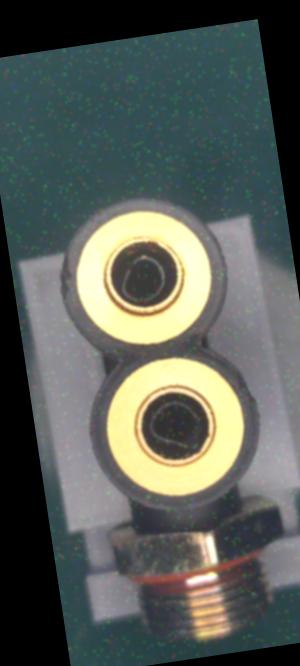bump: (42, 243, 86, 313), (234, 368, 257, 410)
off-centered: (140, 391, 209, 459), (104, 246, 174, 313)
